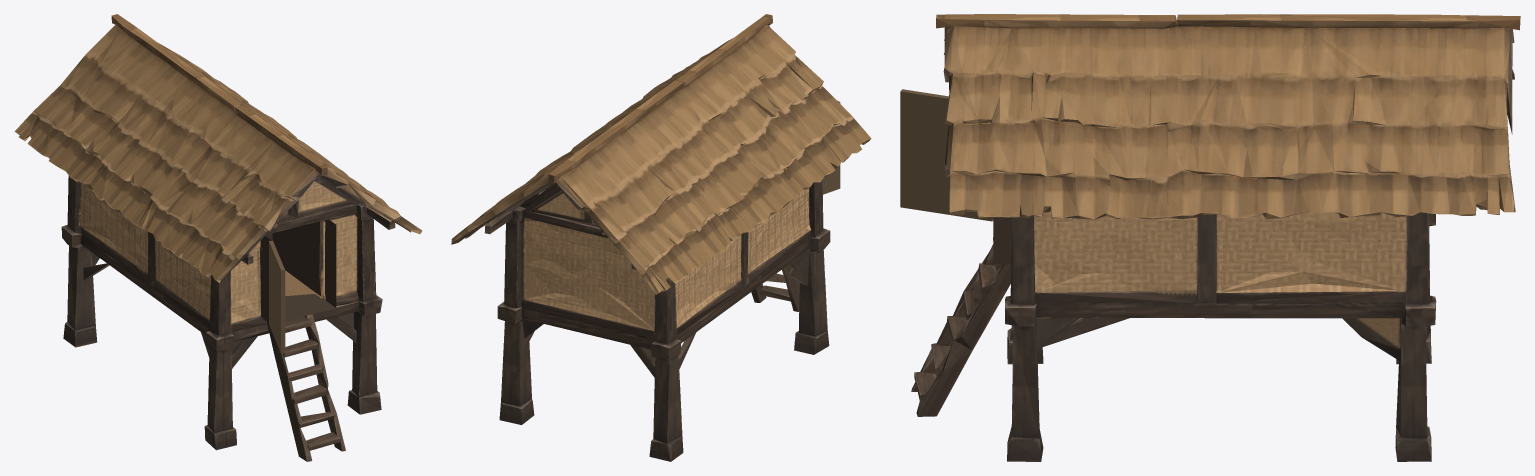
File: S11_empty_granary_a.glb
3 renders of one model, left to right at view 1: azimuth 30°, elevation 25°; view 2: azimuth 150°, elevation 25°; view 3: azimuth 270°, elevation 25°, orthographic. The views are drawn at different scales.
Visible parts, largest first — view 1: Mesh_0; view 2: Mesh_0; view 3: Mesh_0.
Boxes of the visible parts, x1,y1,x2,y2 form: Mesh_0: [14, 14, 422, 461]; Mesh_0: [451, 14, 871, 461]; Mesh_0: [900, 14, 1520, 461].
Size of the model in its own units: 2.35 by 3 by 4.32.
3 materials, 1 textured.
